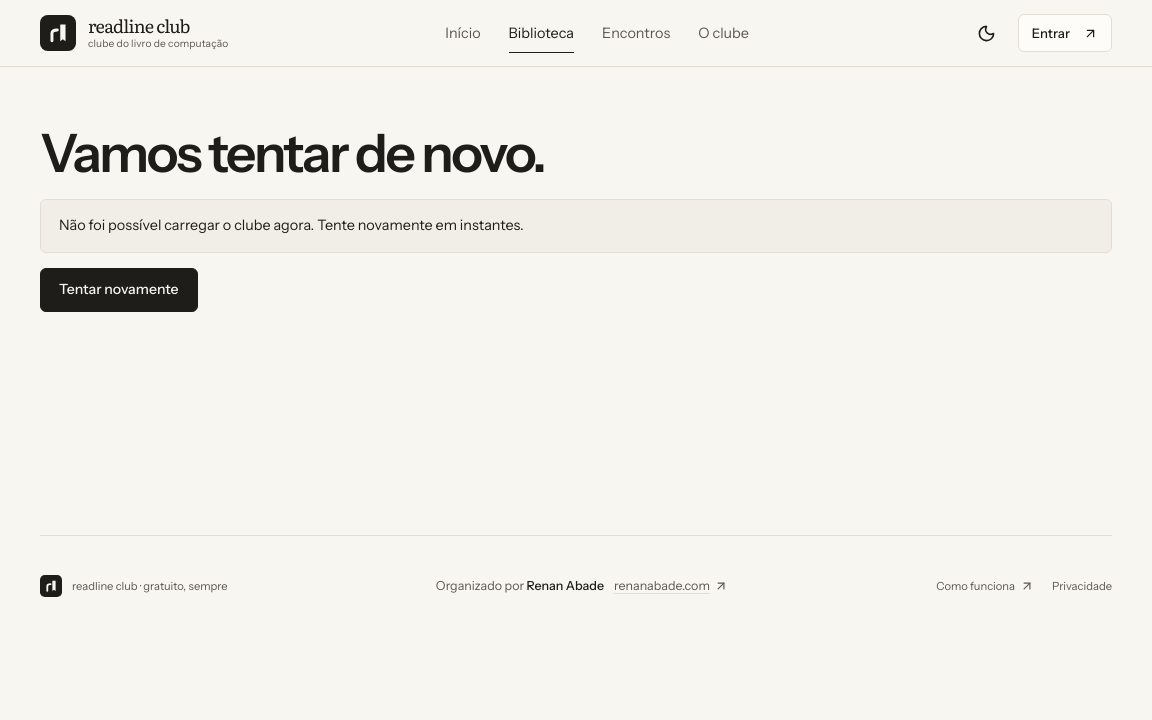
Test: persistent home failure has an actionable retry at /biblioteca
Click the button "Tentar novamente" at (119, 290), box left=40, top=268, right=198, bottom=312
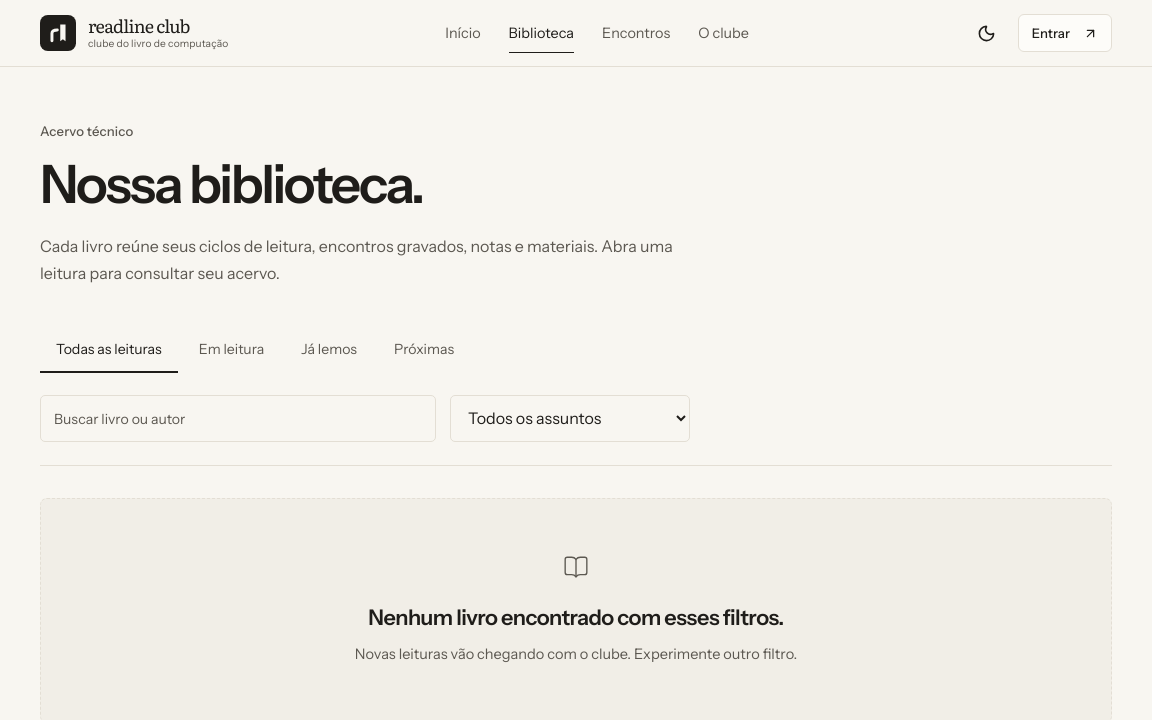
Check: the heading "Nossa biblioteca." is shown, box left=40, top=152, right=423, bottom=216
